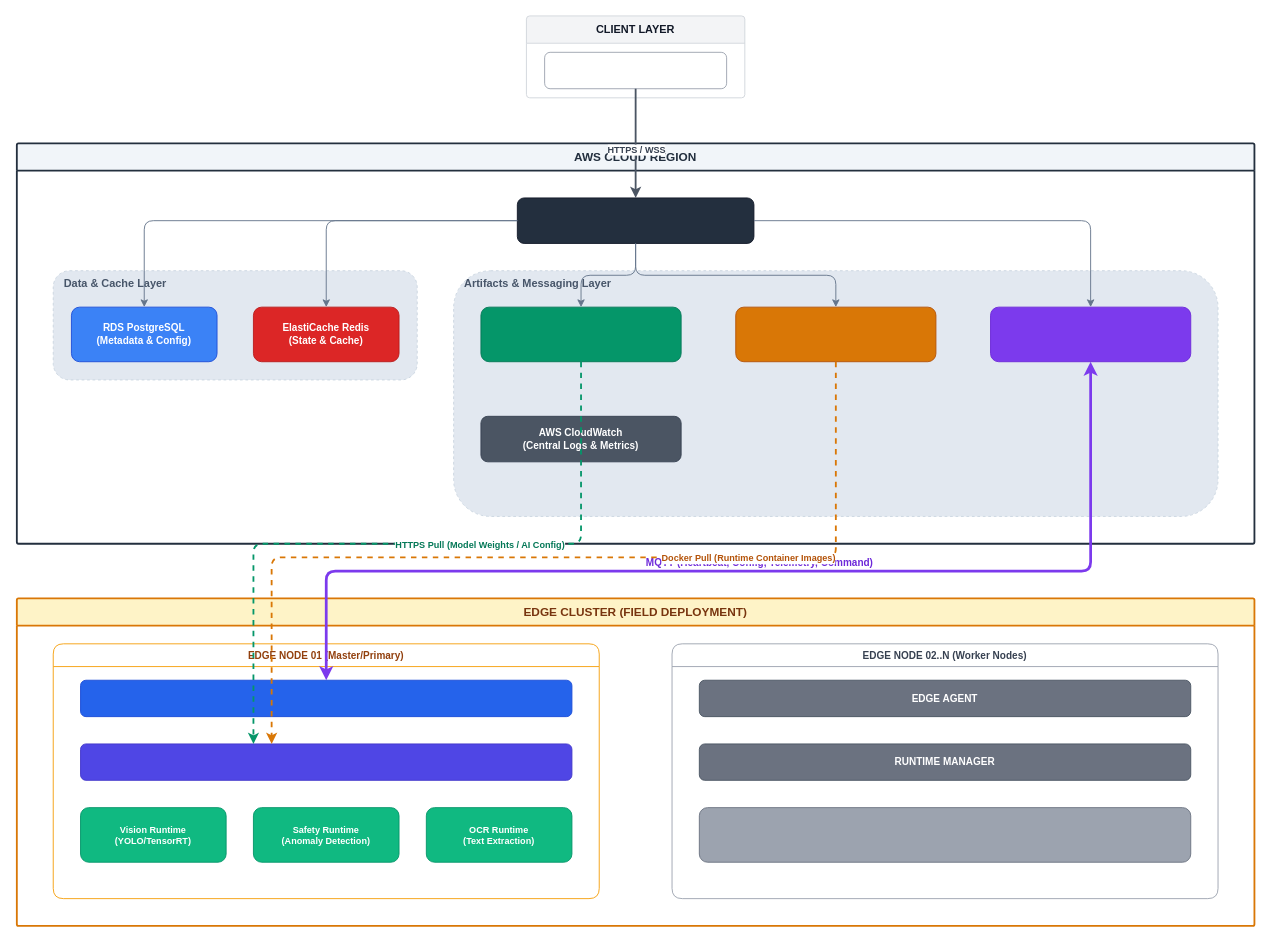
This 1270x943 diagram has some shape labels left out. Each missing label, with the centre of its shape:
"AI Runtimes (Vision / Safety / OCR / Custom Workers)" goes at point 944,834.
"AWS ECR (Runtime Container Images)" goes at point 835,334.
"AWS IoT Core (MQTT Broker & Shadow)" goes at point 1090,334.
"AWS S3 (Model Weights Storage)" goes at point 580,334.
"Cloud Management Server (API Gateway / App Service)" goes at point 635,220.
"EDGE AGENT (Device/Health/Telemetry)" goes at point 326,698.
"RUNTIME MANAGER (Container Lifecycle)" goes at point 326,761.
"Web Application / Mobile App" goes at point 635,70.
